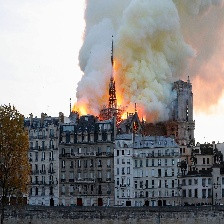fire: (71, 91, 148, 124), (109, 63, 124, 87)
smoke: (68, 1, 224, 95)
